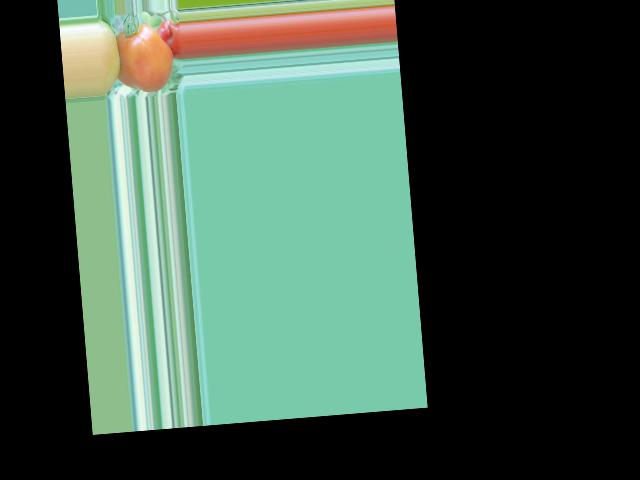tomato: (115, 21, 175, 94)
